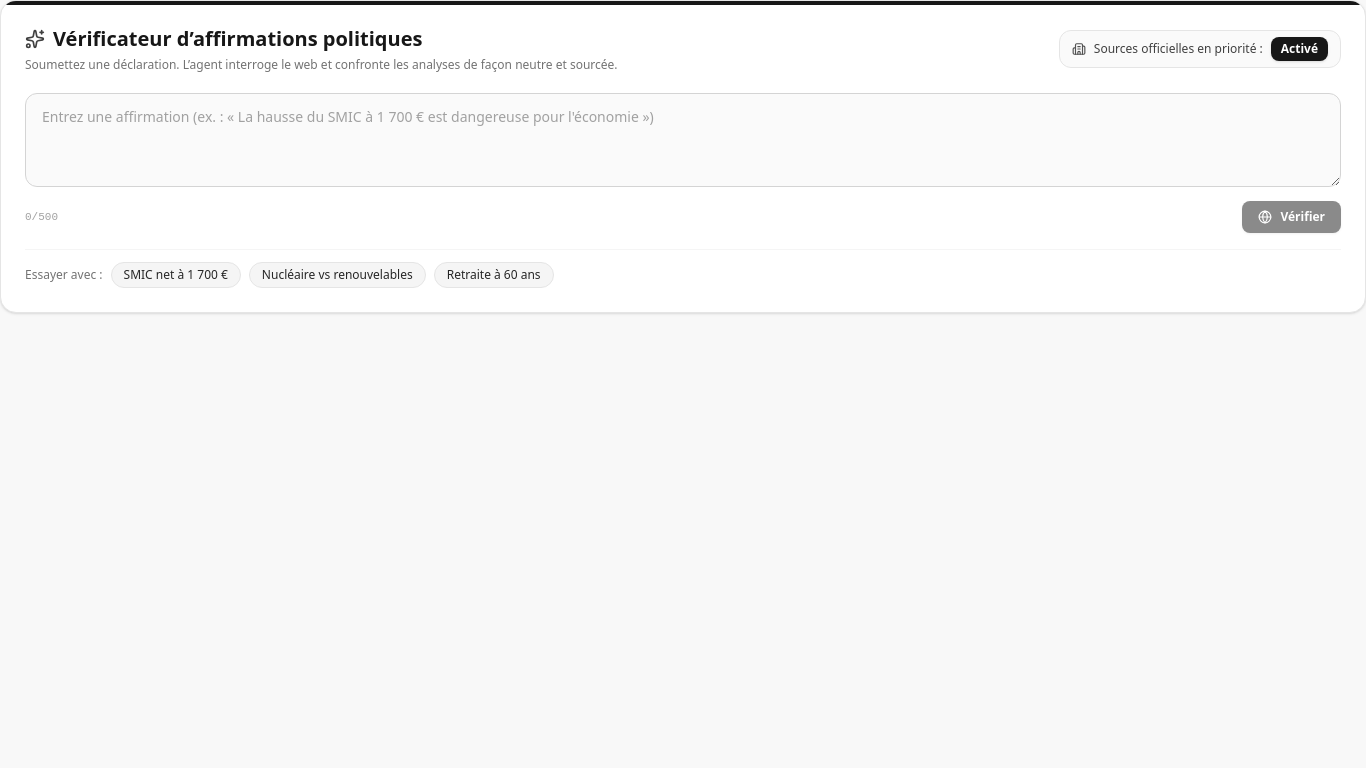
Scenario: CheckPage › le filtre désactivé est transmis au serveur
This screenshot has width=1366, height=768.
Click the button "Activé" at {"x": 1299, "y": 49}, box [1271,37,1328,61]
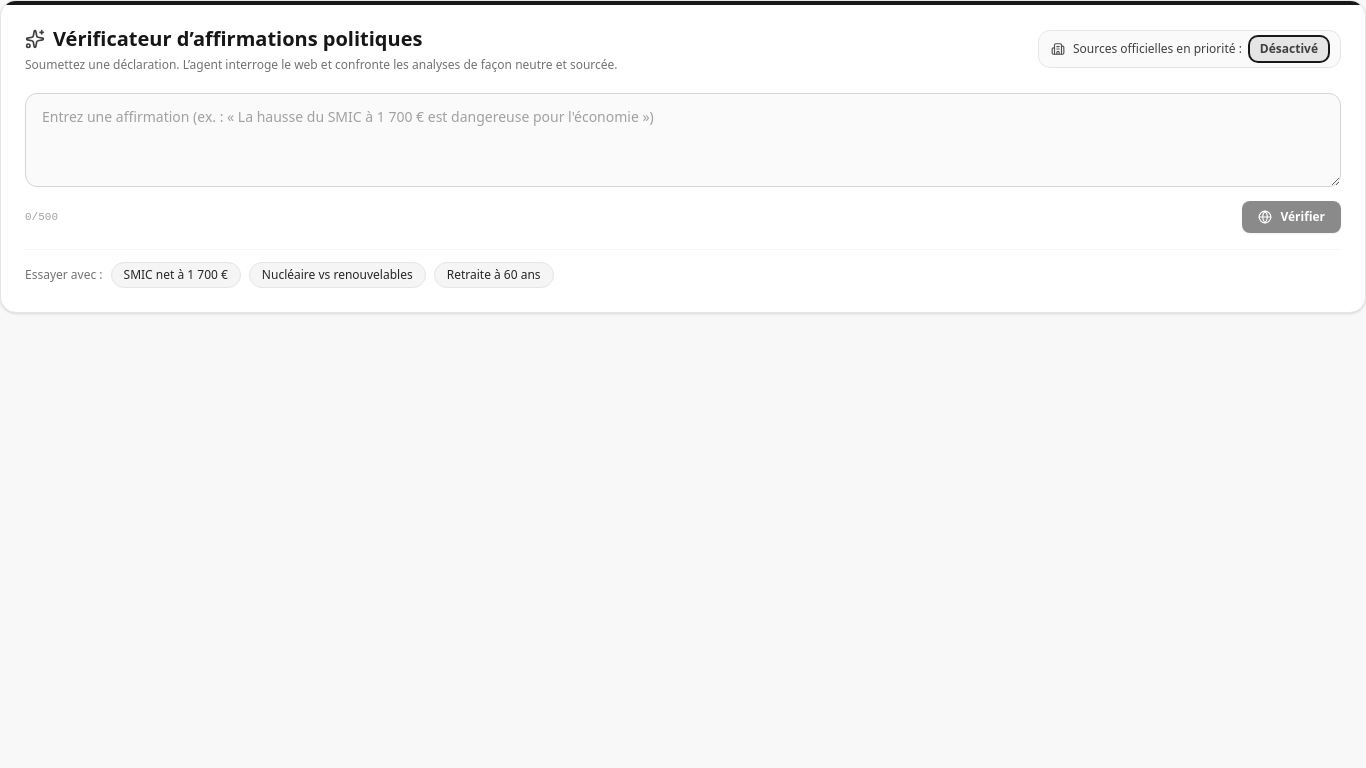
Expected: the button "Désactivé" is not pressed, [1250,37,1328,61]
Type "Une affirmation suffisamment longue." into the text box labelled "affirmation" at {"x": 683, "y": 140}, box [25,93,1341,187]
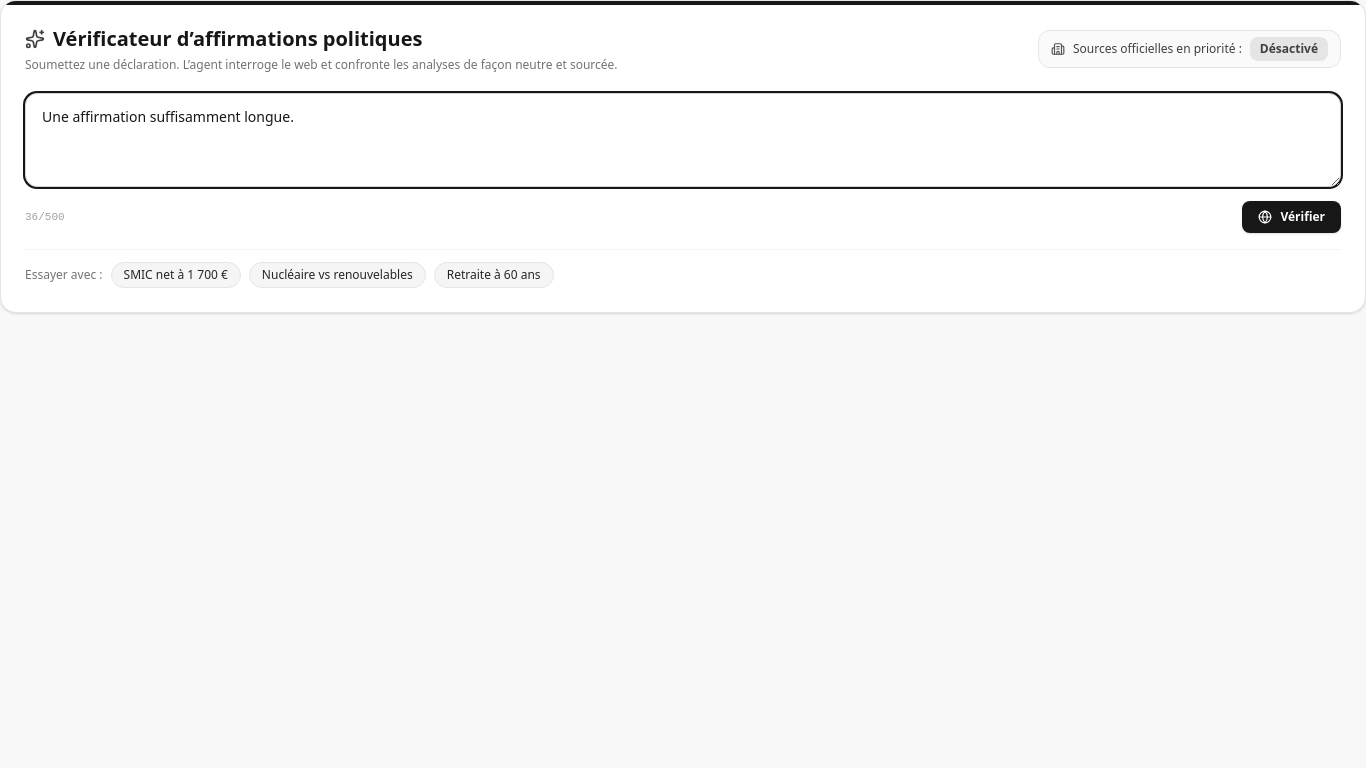
Click the button "Vérifier" at {"x": 1292, "y": 217}, box [1242,201,1341,233]
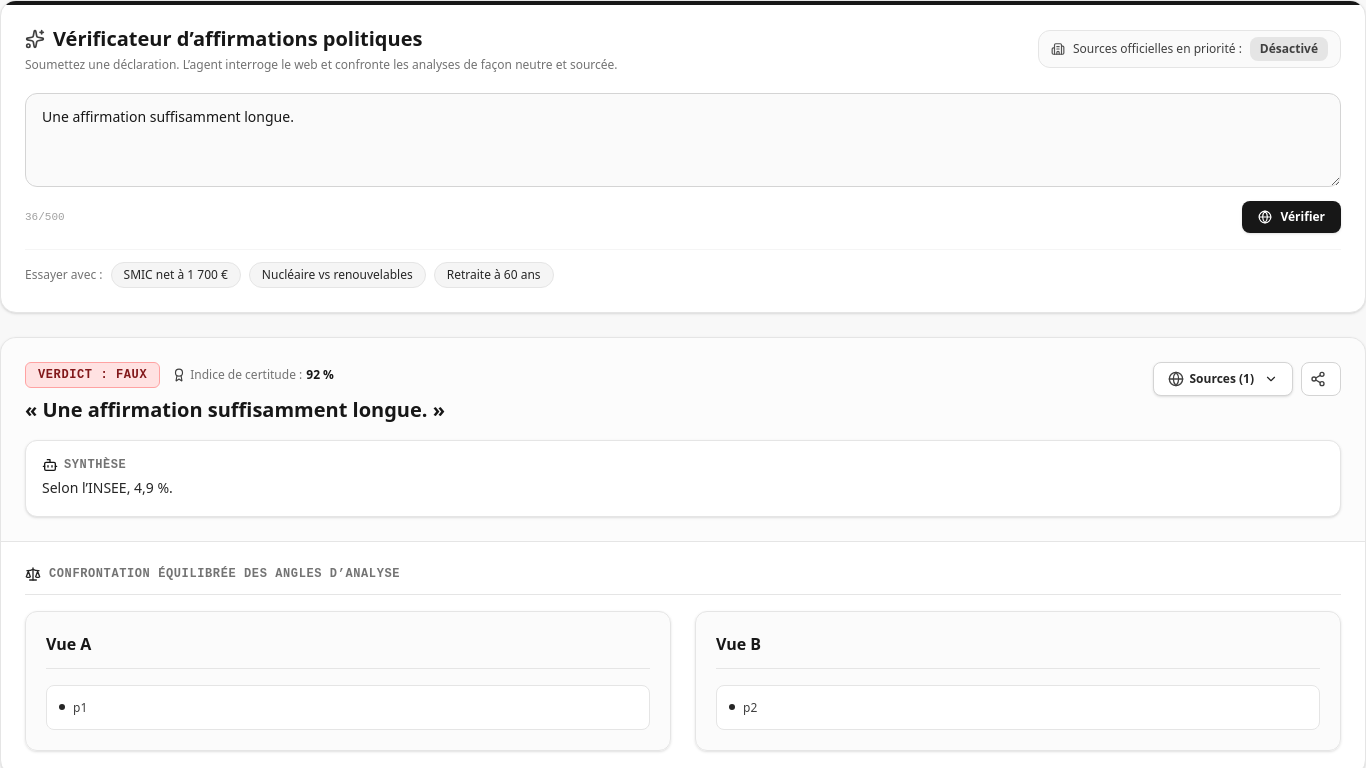
Expected: the text "Verdict : FAUX" is shown, [25,362,160,388]
